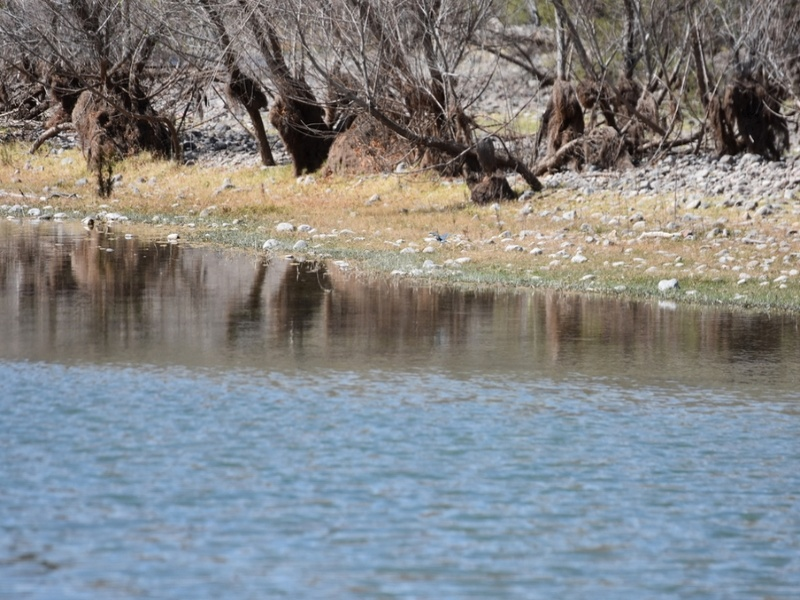kingfisher: (429, 223, 451, 247)
